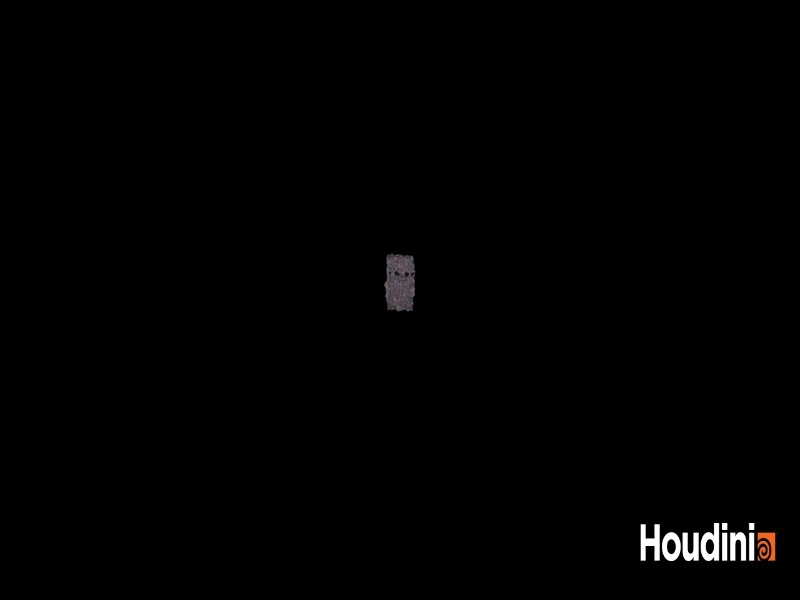waste: (370, 242, 429, 323)
